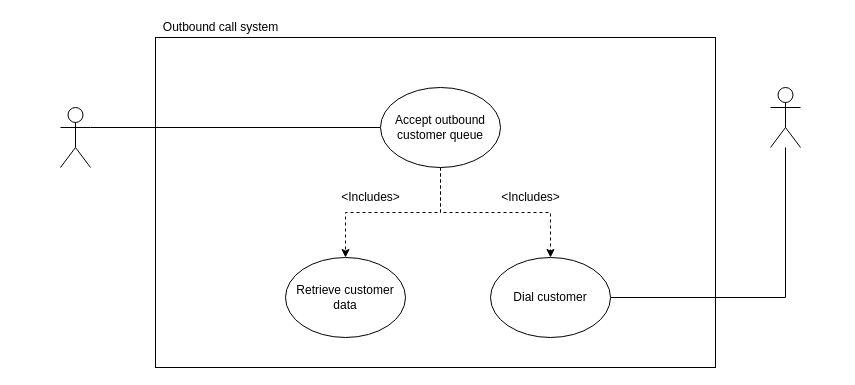
This 855x385 diagram has some shape labels left out. Each missing label, with the centre of its shape:
"Outbound customer" goes at point 785,117.
"Relationship Manager" goes at point 75,137.
